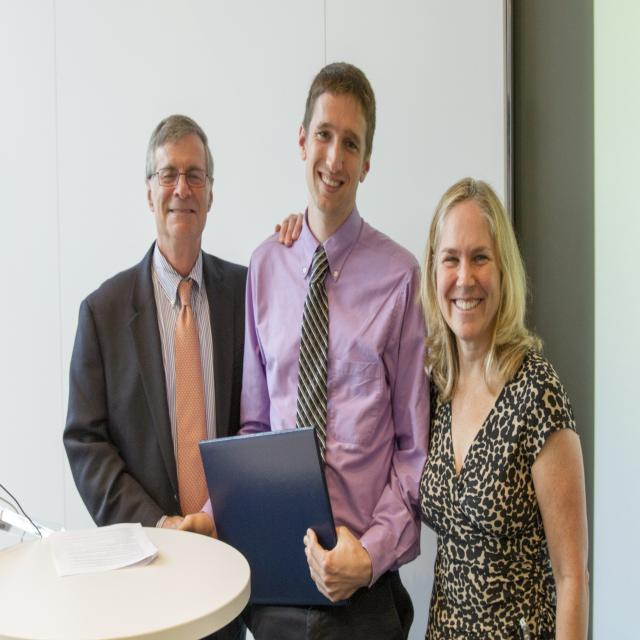body: (272, 178, 592, 640), (177, 60, 431, 640), (54, 110, 310, 640)
